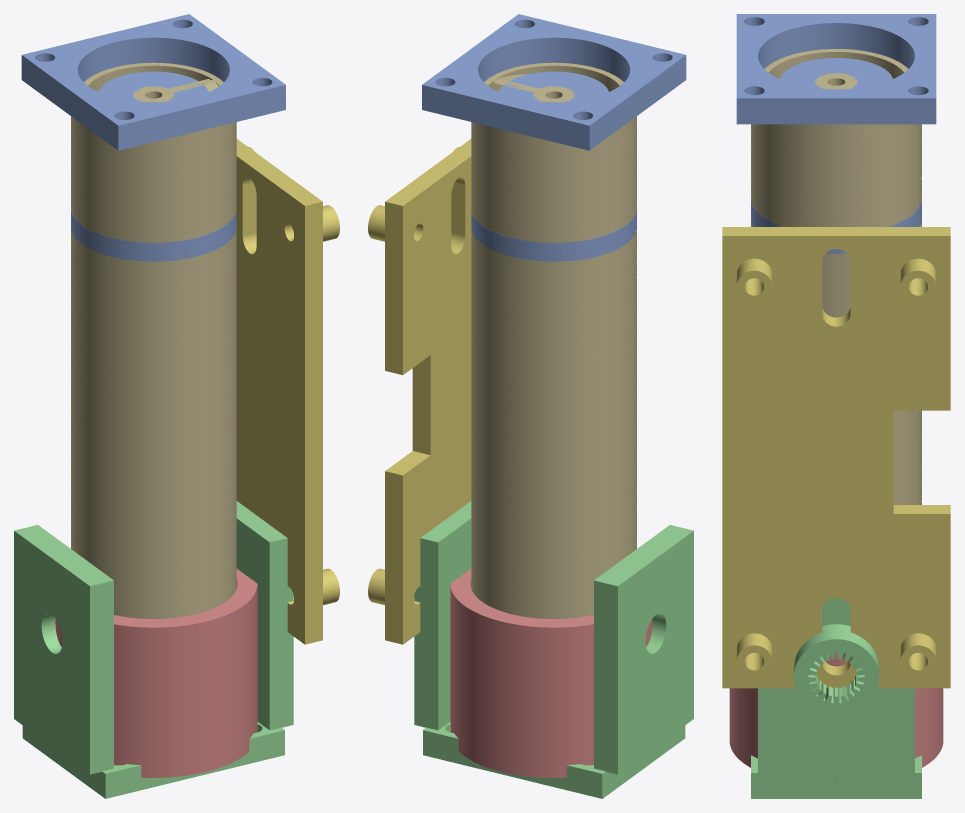
The model's file is full_system_assembly.gltf.
3 renders of one model, left to right at view 1: azimuth 30°, elevation 25°; view 2: azimuth 150°, elevation 25°; view 3: azimuth 270°, elevation 25°, orthographic. The views are drawn at different scales.
Parts seen in each view (by area): view 1: auger_solid, pi_mount_bracket, servo_yoke, stepper_mount_collar, embed_pocket_sleeve; view 2: auger_solid, pi_mount_bracket, servo_yoke, stepper_mount_collar, embed_pocket_sleeve; view 3: pi_mount_bracket, auger_solid, servo_yoke, stepper_mount_collar, embed_pocket_sleeve.
Part boxes in pixels (<box>): auger_solid: <box>71,62,236,618</box>; pi_mount_bracket: <box>236,139,339,644</box>; servo_yoke: <box>14,501,293,798</box>; stepper_mount_collar: <box>21,14,285,261</box>; embed_pocket_sleeve: <box>55,569,257,777</box>; auger_solid: <box>471,62,636,618</box>; pi_mount_bracket: <box>368,139,471,644</box>; servo_yoke: <box>414,501,693,798</box>; stepper_mount_collar: <box>422,14,686,261</box>; embed_pocket_sleeve: <box>450,569,652,777</box>; pi_mount_bracket: <box>722,227,950,688</box>; auger_solid: <box>751,49,921,504</box>; servo_yoke: <box>751,598,921,798</box>; stepper_mount_collar: <box>736,14,936,253</box>; embed_pocket_sleeve: <box>729,652,943,784</box>.
Size of the model in its own units: 40 by 108 by 32.
